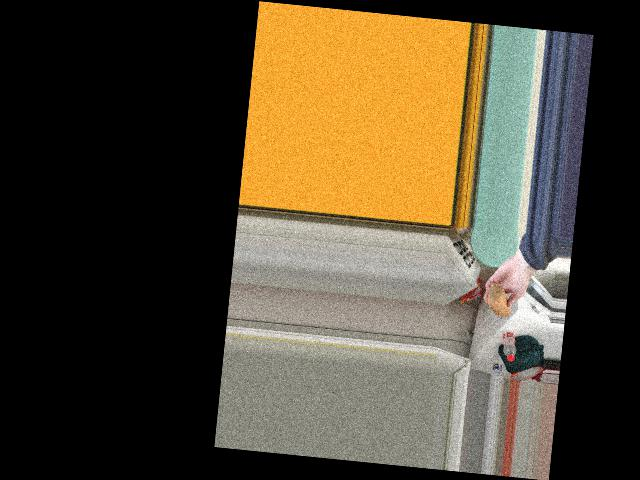sweet_potato: (486, 286, 511, 317)
